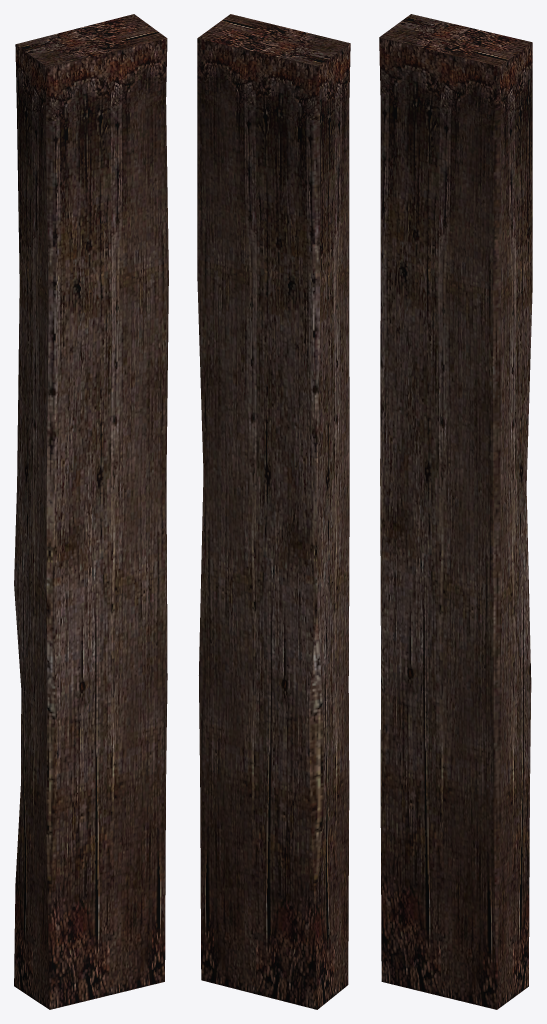
Rendered from 8m_pillar.fbx.
3 views of the same model, side by side, from view 1: azimuth 30°, elevation 25°; view 2: azimuth 150°, elevation 25°; view 3: azimuth 330°, elevation 25° (orthographic).
Visible parts, largest first — view 1: mesh_0; view 2: mesh_0; view 3: mesh_0.
Boxes of the visible parts, <box> form: mesh_0: <box>14,14,168,1009</box>; mesh_0: <box>197,14,350,1009</box>; mesh_0: <box>379,14,532,1009</box>.
Size of the model in its own units: 101 by 750 by 52.73.
1 material, 1 textured.
